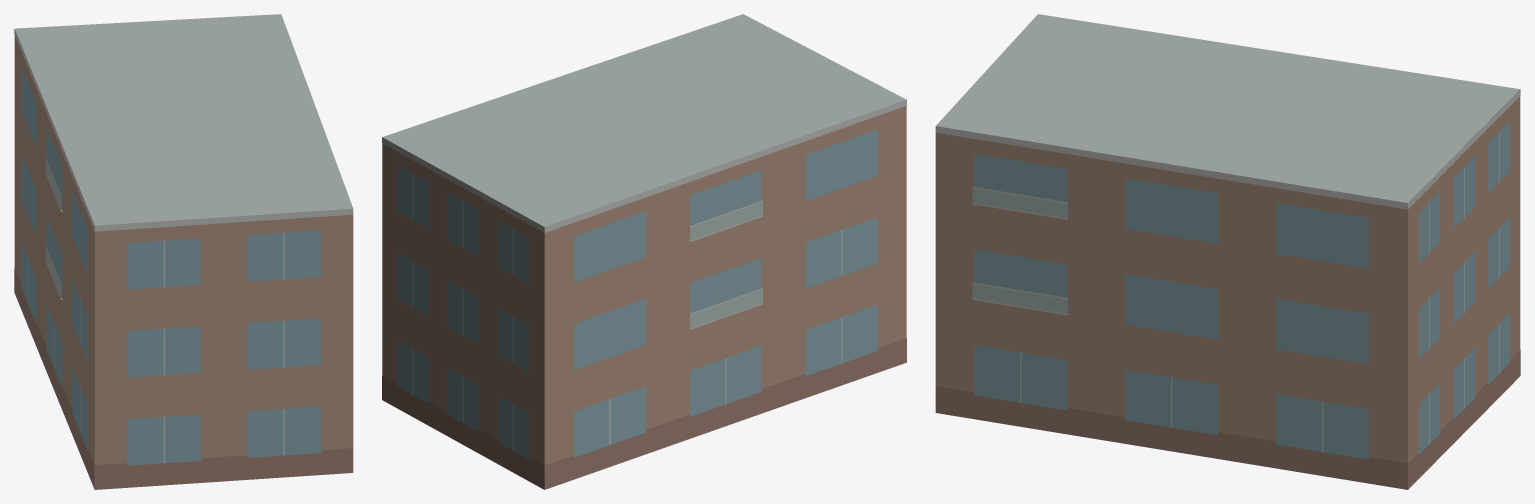
The model's file is survey-upis-32873538.glb.
The picture shows the model from 3 angles, left to right: view 1: azimuth 30°, elevation 25°; view 2: azimuth 150°, elevation 25°; view 3: azimuth 270°, elevation 25°; orthographic projection. The views are drawn at different scales.
Visible parts, largest first — view 1: survey-upis-32873538.tmp; view 2: survey-upis-32873538.tmp; view 3: survey-upis-32873538.tmp.
Part boxes in pixels (bbox=[...]): survey-upis-32873538.tmp: bbox=[14, 14, 353, 489]; survey-upis-32873538.tmp: bbox=[382, 14, 906, 489]; survey-upis-32873538.tmp: bbox=[935, 14, 1520, 489].
Size of the model in its own units: 15.14 by 10.7 by 19.78.
